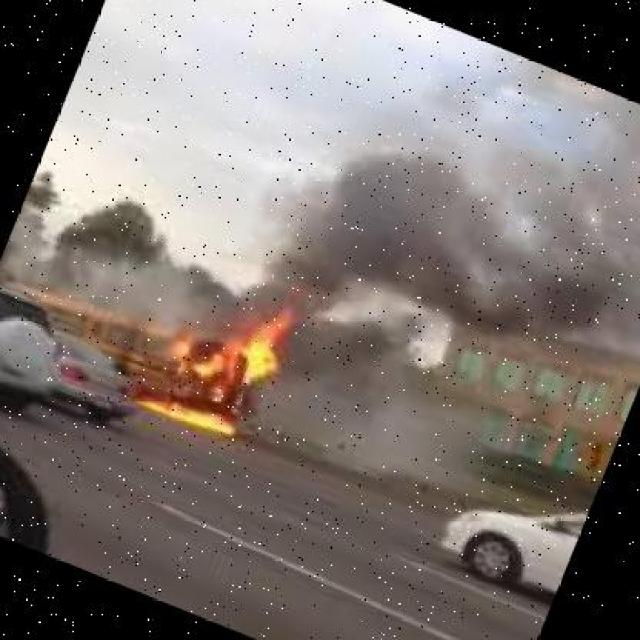fire: (143, 270, 326, 462)
